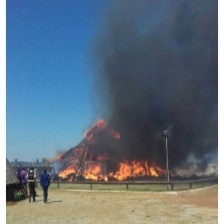fire: (49, 119, 174, 183)
smoke: (110, 1, 217, 159)
